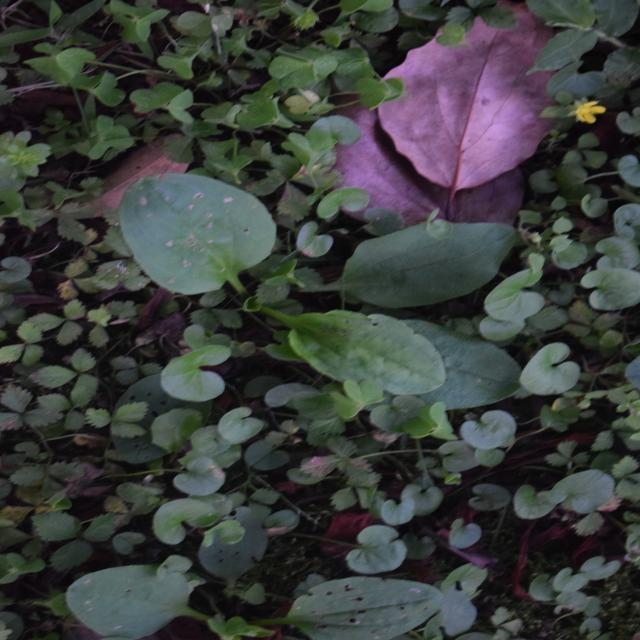plantain: (171, 110, 417, 508)
